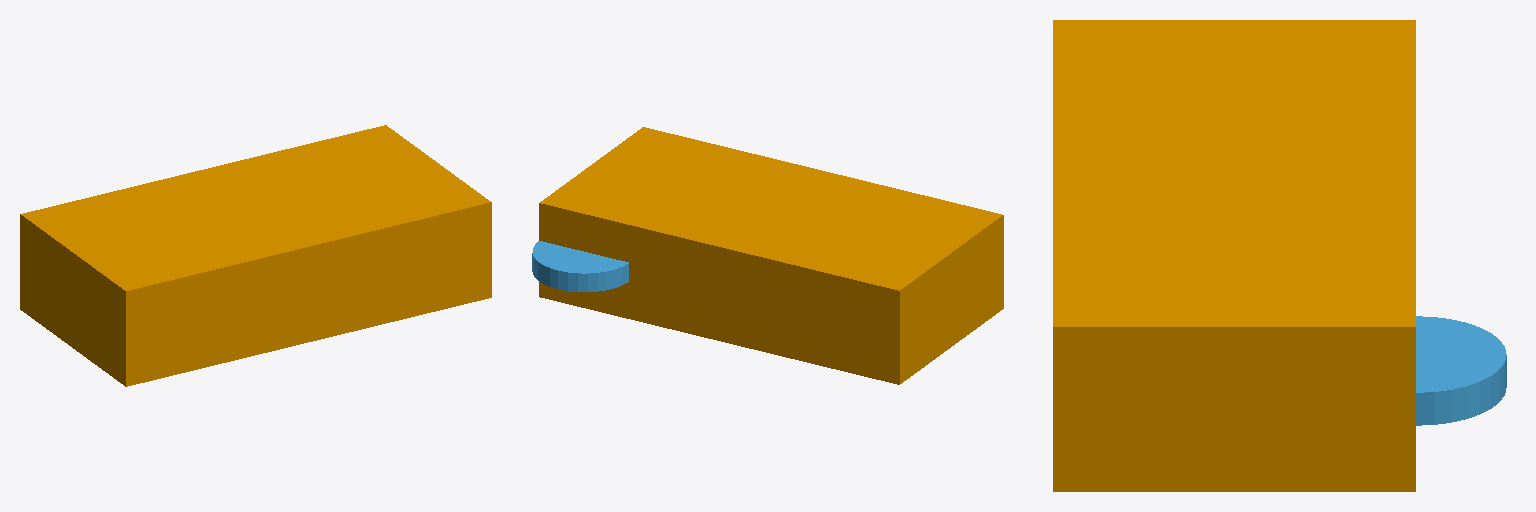
robot.urdf — pickup_truck:
<?xml version="1.0"?>

<robot name="pickup_truck">

  <!-- Truck body -->
  <link name="body">
    <visual>
      <geometry>
        <box size="4 2 1"/>
      </geometry>
    </visual>
    <collision>
      <geometry>
        <box size="4 2 1"/>
      </geometry>
    </collision>
    <inertial>
      <mass value="1000"/>
      <inertia ixx="500" ixy="0" ixz="0" iyy="500" iyz="0" izz="500"/>
    </inertial>
  </link>

  <!-- Wheels -->
  <link name="front_left_wheel">
    <visual>
      <geometry>
        <cylinder length="0.2" radius="0.5"/>
      </geometry>
    </visual>
    <collision>
      <geometry>
        <cylinder length="0.2" radius="0.5"/>
      </geometry>
    </collision>
    <inertial>
      <mass value="20"/>
      <inertia ixx="1" ixy="0" ixz="0" iyy="1" iyz="0" izz="1"/>
    </inertial>
  </link>
  <!-- ... Repeat for front_right_wheel, rear_left_wheel, rear_right_wheel -->

  <!-- Joints -->
  <joint name="front_left_joint" type="continuous">
    <parent link="body"/>
    <child link="front_left_wheel"/>
    <origin xyz="1.5 1 0" rpy="0 0 0"/>
    <axis xyz="0 0 1"/>
  </joint>
  <!-- ... Repeat for other wheel joints -->

</robot>

--- Facts derived from the render (not from the file) ---
The picture shows the robot from 3 angles, left to right: view 1: azimuth 30°, elevation 25°; view 2: azimuth 150°, elevation 25°; view 3: azimuth 270°, elevation 25°; orthographic projection.
Model pickup_truck with 2 links and 1 joints (1 continuous), rooted at body, posed all joints at 0.
Visible links, largest first — view 1: body; view 2: body, front_left_wheel; view 3: body, front_left_wheel.
Boxes of the visible links, bbox=[...] form: body: bbox=[20, 125, 491, 386]; body: bbox=[539, 127, 1003, 384]; front_left_wheel: bbox=[532, 241, 628, 291]; body: bbox=[1053, 20, 1415, 491]; front_left_wheel: bbox=[1416, 316, 1506, 425].
Size in the robot's own frame: 4 by 2.5 by 1 metres.
Geometry: primitives only (box / cylinder / sphere), no mesh files.